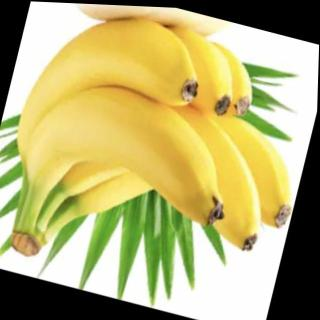banana: (27, 59, 290, 284), (27, 1, 264, 225), (21, 1, 247, 225), (61, 71, 312, 268), (6, 1, 214, 205), (15, 64, 248, 242)
